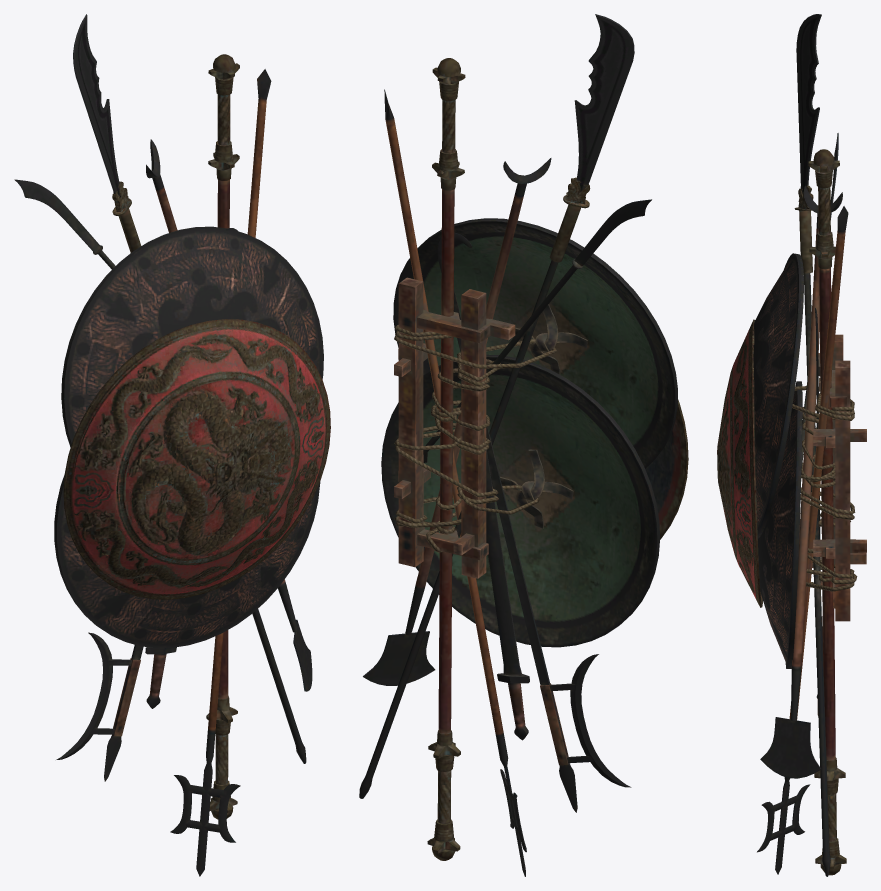
The model's file is Shield.fbx.
3 views of the same model, side by side, from view 1: azimuth 30°, elevation 25°; view 2: azimuth 150°, elevation 25°; view 3: azimuth 270°, elevation 25° (orthographic). The views are drawn at different scales.
Visible parts, largest first — view 1: set_0_group_0; view 2: set_0_group_0; view 3: set_0_group_0.
Boxes of the visible parts, bbox=[...] form: set_0_group_0: bbox=[14, 14, 330, 876]; set_0_group_0: bbox=[359, 14, 688, 876]; set_0_group_0: bbox=[717, 14, 866, 876].
Bounding box in the file's own units: 86.11 × 248 × 41.16.
1 material, 1 textured.
